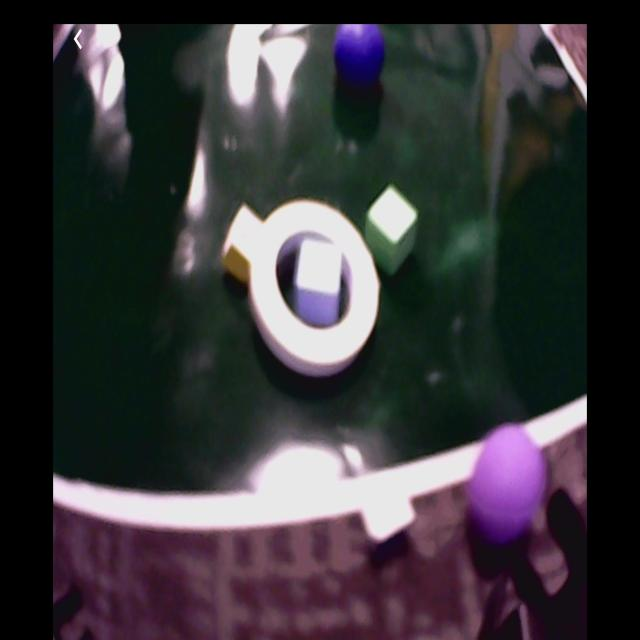ball: (473, 429, 547, 542), (335, 24, 387, 86)
